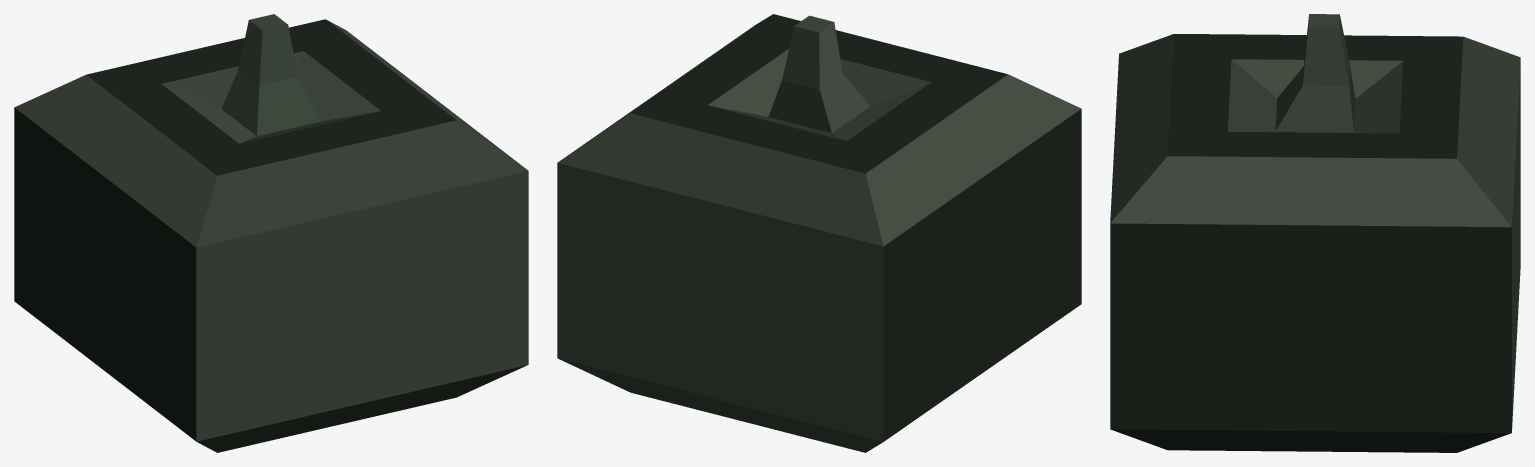
Rendered from SF_Prop_Pumpkin_01.glb.
3 views of the same model, side by side, from view 1: azimuth 30°, elevation 25°; view 2: azimuth 150°, elevation 25°; view 3: azimuth 270°, elevation 25° (orthographic). The views are drawn at different scales.
Parts seen in each view (by area): view 1: SF_Prop_Pumpkin_01; view 2: SF_Prop_Pumpkin_01; view 3: SF_Prop_Pumpkin_01.
Part boxes in pixels (bbox=[...]): SF_Prop_Pumpkin_01: bbox=[14, 14, 528, 452]; SF_Prop_Pumpkin_01: bbox=[557, 14, 1081, 452]; SF_Prop_Pumpkin_01: bbox=[1110, 14, 1520, 452].
Size of the model in its own units: 0.0149 by 0.0148 by 0.0149.
1 material, 1 textured.
